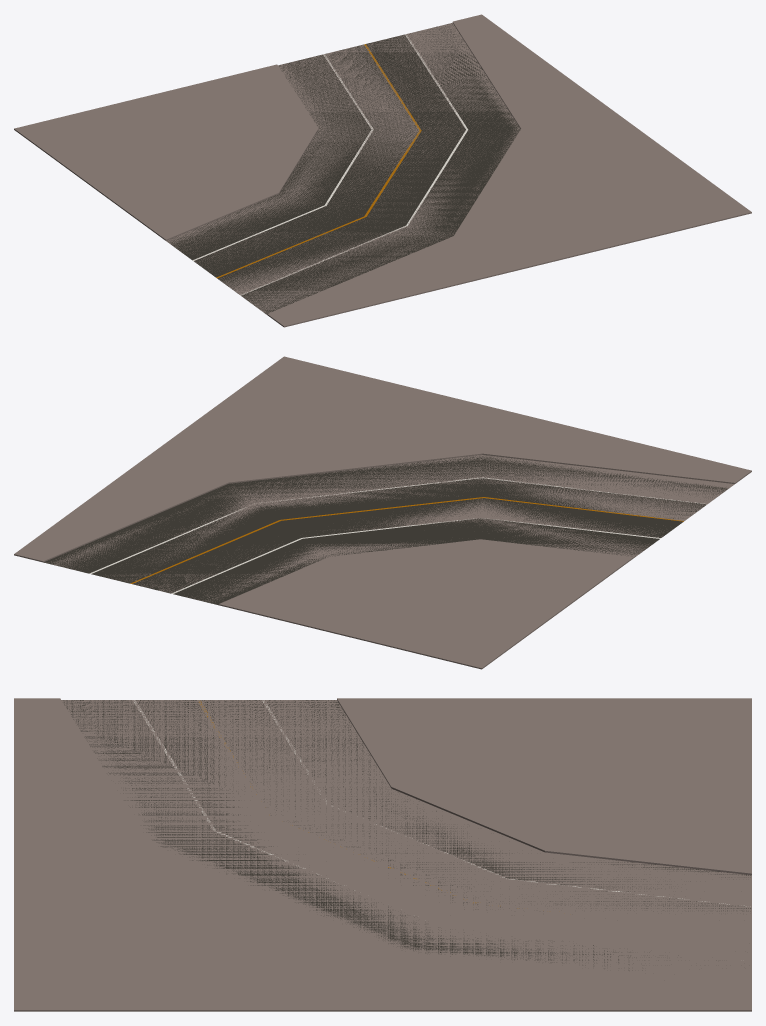
Rendered from Env_2lane_CurveA.fbx.
3 renders of one model, top to bottom at view 1: azimuth 30°, elevation 25°; view 2: azimuth 150°, elevation 25°; view 3: azimuth 270°, elevation 25°, orthographic. The views are drawn at different scales.
Parts seen in each view (by area): view 1: Env_2lane_CurveA; view 2: Env_2lane_CurveA; view 3: Env_2lane_CurveA.
Boxes of the visible parts, bbox=[...] form: Env_2lane_CurveA: bbox=[14, 14, 751, 327]; Env_2lane_CurveA: bbox=[14, 356, 751, 669]; Env_2lane_CurveA: bbox=[14, 698, 751, 1011].
Bounding box in the file's own units: 4000 × 10 × 4000.
